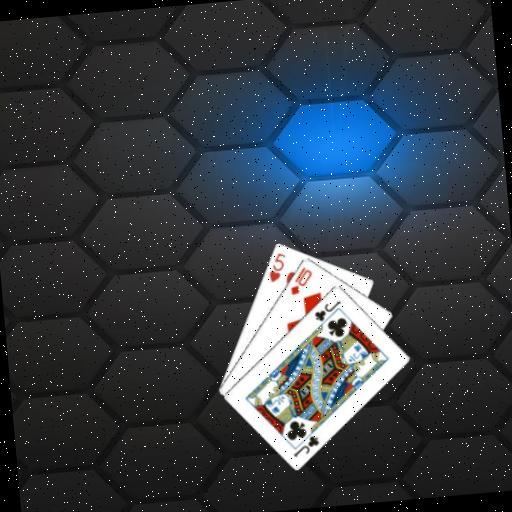10D: (285, 263, 315, 297)
5H: (264, 249, 290, 283)
JC: (310, 296, 344, 323), (289, 432, 322, 459)
